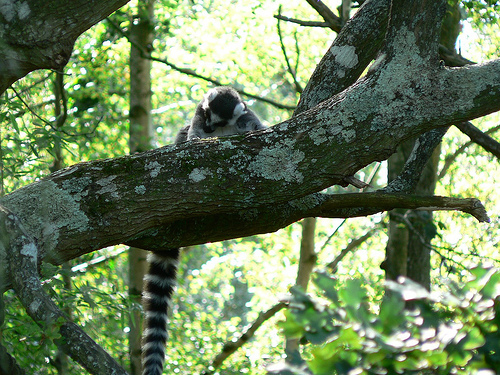cat: (139, 83, 267, 374)
